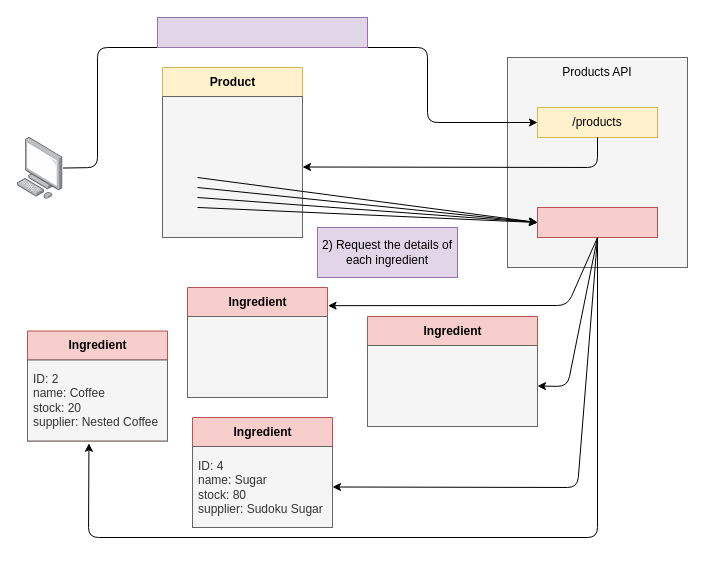
This 705x563 diagram has some shape labels left out. The shapes that lost their labels are listed below. From the top down, each one's centre as x and y in pixels, then its label:
pixel 262 32: 1) Retrieve details of product Mocha
pixel 232 167: ID: 1 name: Mocha price: $10 ingredients: [ 1, 2, 3, 4 ]
pixel 597 222: /ingredients
pixel 257 357: ID: 1 name: Milk stock: 10 supplier: Arlington Milk
pixel 452 385: ID: 3 name: Chocolate stock: 30 supplier: Fourier Chocolates
